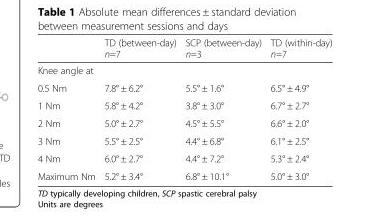table: (36, 36, 331, 181)
table column: (180, 36, 265, 181), (99, 36, 180, 181), (265, 36, 331, 181), (36, 36, 99, 181)
table column header: (36, 36, 331, 61)
table projected row header: (36, 61, 331, 78)
table row: (36, 36, 331, 61), (36, 78, 331, 96), (36, 96, 331, 114), (36, 131, 331, 149), (36, 149, 331, 167), (36, 61, 331, 78), (36, 114, 331, 131), (36, 167, 331, 181)
